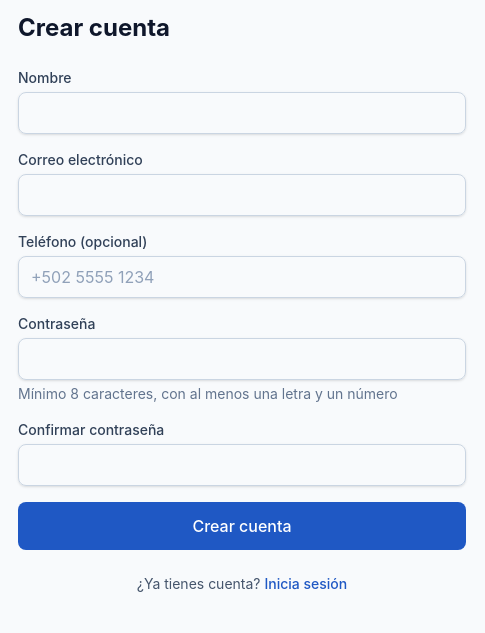
RegisterPage › valida la contraseña y la confirmación
In the field labelled "Nombre": point(242, 113) x1=18 y1=92 x2=466 y2=134, type "Ana"
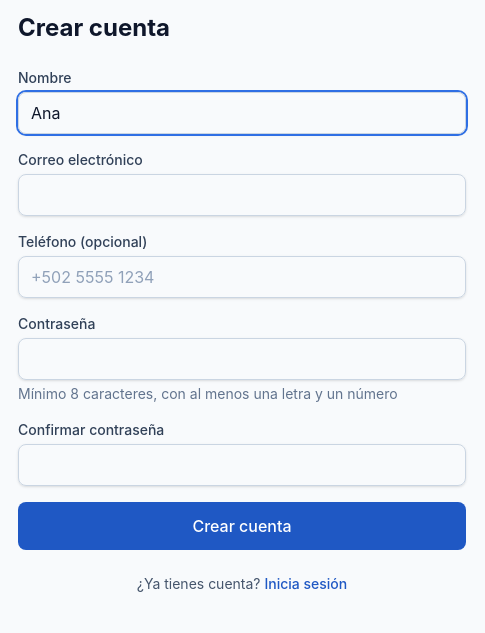
In the field labelled "Correo electrónico": point(242, 195) x1=18 y1=174 x2=466 y2=216, type "ana@test.dev"
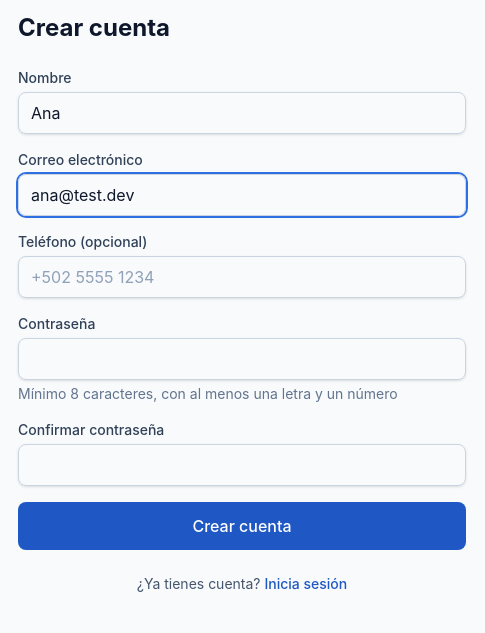
In the password field labelled "Contraseña": point(242, 359) x1=18 y1=338 x2=466 y2=380, type "soloLetras"
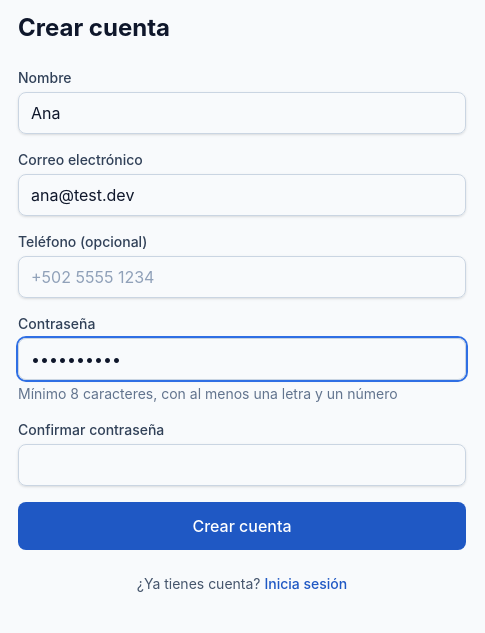
In the password field labelled "Confirmar contraseña": point(242, 465) x1=18 y1=444 x2=466 y2=486, type "otra"
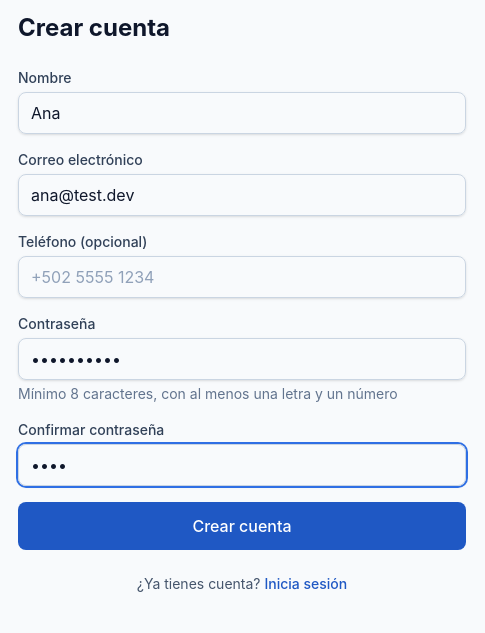
Click the button "Crear cuenta": point(242, 526) x1=18 y1=502 x2=466 y2=550
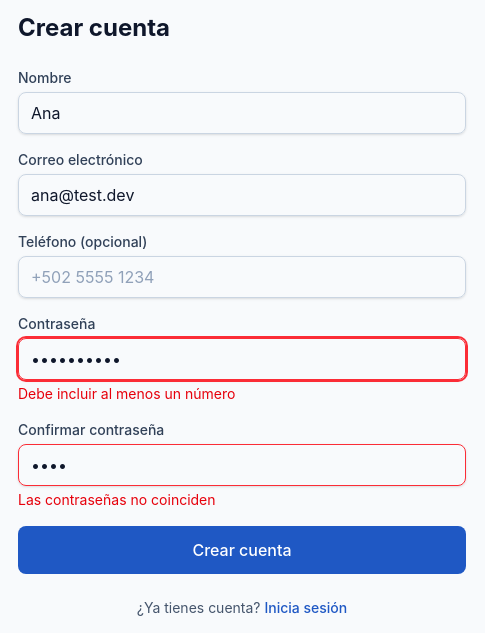
expect the text "Debe incluir al menos un número" is shown: met, box x1=18 y1=385 x2=235 y2=402
expect the text "Las contraseñas no coinciden" is shown: met, box x1=18 y1=491 x2=216 y2=508
